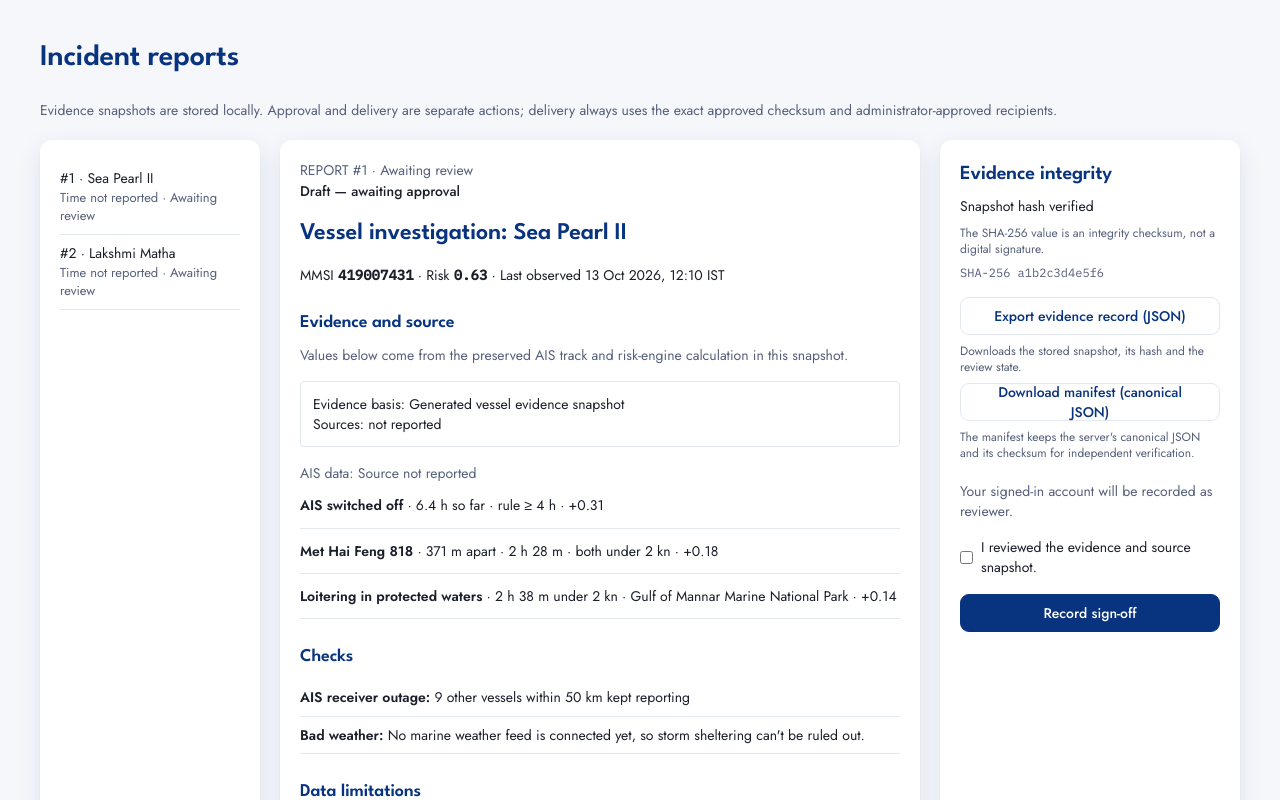
Test: Cases / EvidencePage & ReportsPage › shows sign-off rejection that arrives while report #1 is still open (B-16b)
Click the checkbox labelled "I reviewed the evidence and source snapshot." at (966, 558), box x1=960 y1=537 x2=973 y2=578
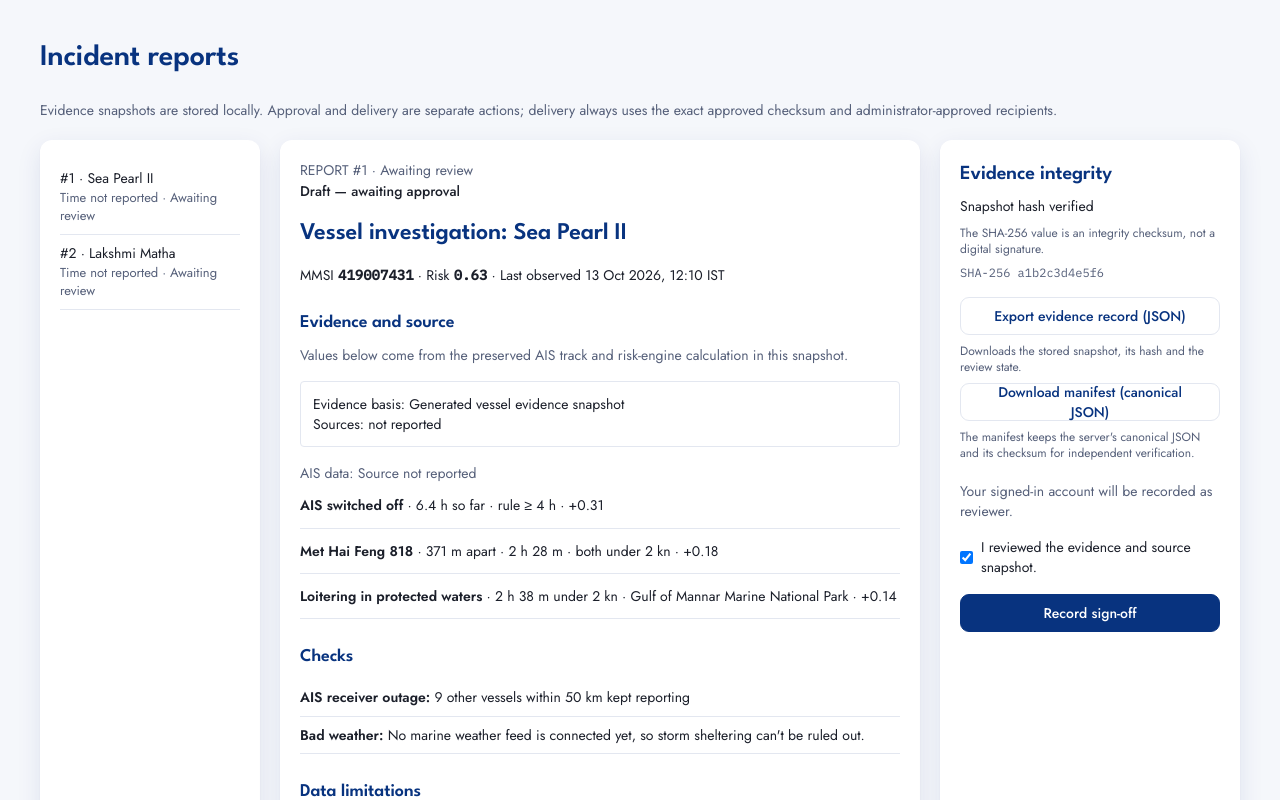
Click the button "Record sign-off" at (1090, 613), box x1=960 y1=594 x2=1220 y2=632
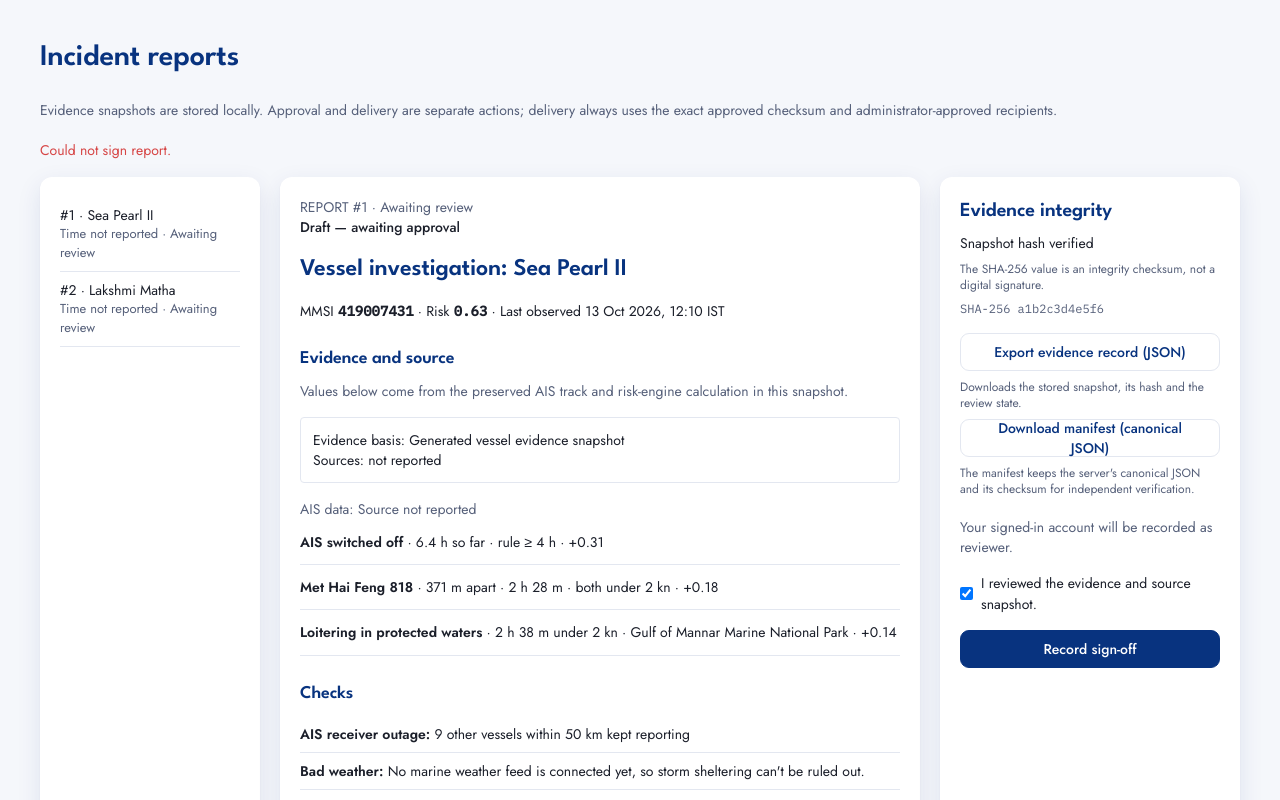
Check: the message reads "Could not sign report.", box x1=40 y1=140 x2=171 y2=160
